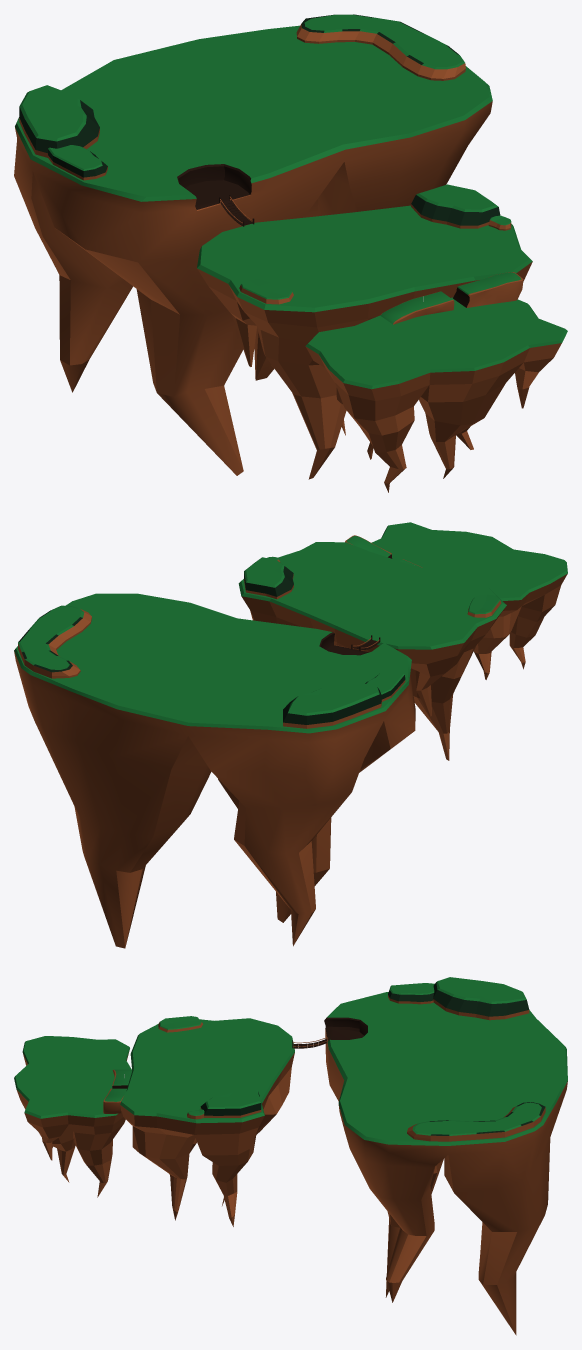
The model's file is Landscape03_FBX.fbx.
3 renders of one model, top to bottom at view 1: azimuth 30°, elevation 25°; view 2: azimuth 150°, elevation 25°; view 3: azimuth 270°, elevation 25°, orthographic. The views are drawn at different scales.
Visible parts, largest first — view 1: Platform_003, Platform_002, Platform_001, Box008, Box006, Ramp, Box004, Box007, Box003; view 2: Platform_003, Platform_002, Platform_001, Box008, Box006, Box004, Box007, Box003; view 3: Platform_003, Platform_002, Platform_001, Box006, Box008, Box004, Box007, Ramp, Box003.
Boxes of the visible parts, bbox=[...] form: Platform_003: bbox=[14, 25, 492, 475]; Platform_002: bbox=[197, 205, 532, 479]; Platform_001: bbox=[305, 297, 567, 492]; Box008: bbox=[296, 14, 465, 80]; Box006: bbox=[19, 85, 99, 157]; Ramp: bbox=[380, 272, 523, 324]; Box004: bbox=[411, 184, 500, 228]; Box007: bbox=[48, 145, 107, 180]; Box003: bbox=[239, 279, 293, 304]; Platform_003: bbox=[14, 593, 415, 948]; Platform_002: bbox=[238, 542, 506, 760]; Platform_001: bbox=[371, 522, 567, 679]; Box008: bbox=[18, 605, 91, 678]; Box006: bbox=[283, 682, 381, 728]; Box004: bbox=[244, 557, 293, 599]; Box007: bbox=[365, 671, 405, 701]; Box003: bbox=[467, 594, 501, 617]; Platform_003: bbox=[324, 992, 567, 1335]; Platform_002: bbox=[120, 1018, 294, 1226]; Platform_001: bbox=[14, 1036, 131, 1197]; Box006: bbox=[433, 977, 529, 1020]; Box008: bbox=[407, 1102, 545, 1141]; Box004: bbox=[200, 1090, 261, 1117]; Box007: bbox=[388, 983, 434, 1004]; Ramp: bbox=[103, 1069, 131, 1113]; Box003: bbox=[158, 1016, 202, 1032].
Bounding box in the file's own units: 16521 × 12989 × 24751.
